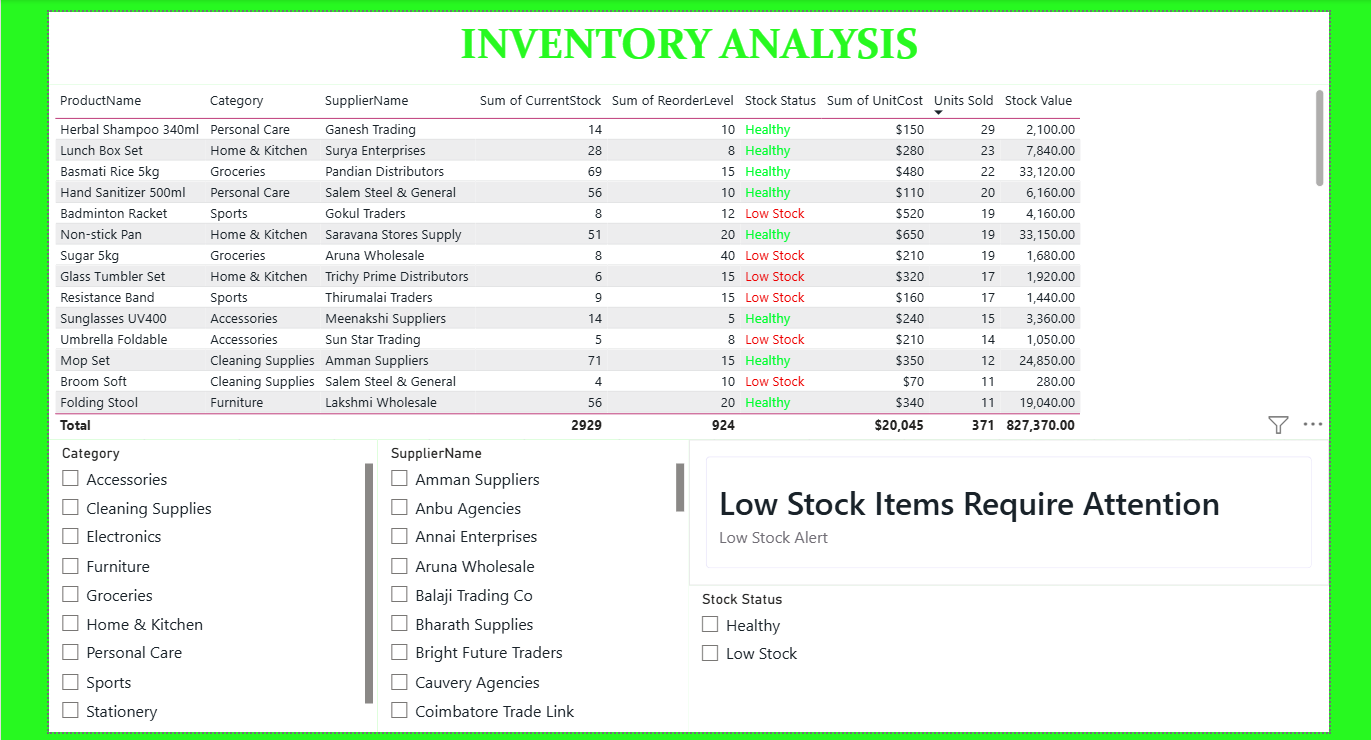

This screenshot's page, from the dashboard's own definition file:
{"tool":"powerbi","page":{"name":"Inventory Details","canvas":[1280,720],"ordinal":3},"visuals":[{"type":"tableEx","fields":{"Values":["Products.ProductName","Products.Category","Suppliers.SupplierName","Sum(Inventory.CurrentStock)","Sum(Products.ReorderLevel)","Inventory.Stock Status","Sum(Products.UnitCost)","Sales.Units Sold","Sales.Stock Value"]},"box":[0,72.5,1280,355],"z":0},{"type":"slicer","fields":{"Values":["Products.Category"]},"box":[0,427.1,328.6,292.9],"z":1000},{"type":"textbox","box":[0,0,1280,72.5],"z":2000},{"type":"slicer","fields":{"Values":["Suppliers.SupplierName"]},"box":[328.6,427.1,311.4,292.9],"z":3000},{"type":"slicer","fields":{"Values":["Inventory.Stock Status"]},"box":[640,573.5,640,146.5],"z":4000},{"type":"cardVisual","fields":{"Data":["Inventory.Low Stock Alert"]},"box":[640,427.1,640,146.5],"z":5000}]}

Visuals, with their boxes on the page's 1280x720 design canvas (x1, y1, x2, y2). These are canvas units, not pixel positions in the 1371x740 screenshot, which may show the page scaled, cropped or inside an application window:
tableEx - Products.ProductName x Products.Category: bbox=[0, 72, 1280, 428]
slicer - Products.Category: bbox=[0, 427, 329, 720]
textbox: bbox=[0, 0, 1280, 72]
slicer - Suppliers.SupplierName: bbox=[329, 427, 640, 720]
slicer - Inventory.Stock Status: bbox=[640, 574, 1280, 720]
cardVisual - Inventory.Low Stock Alert: bbox=[640, 427, 1280, 574]
